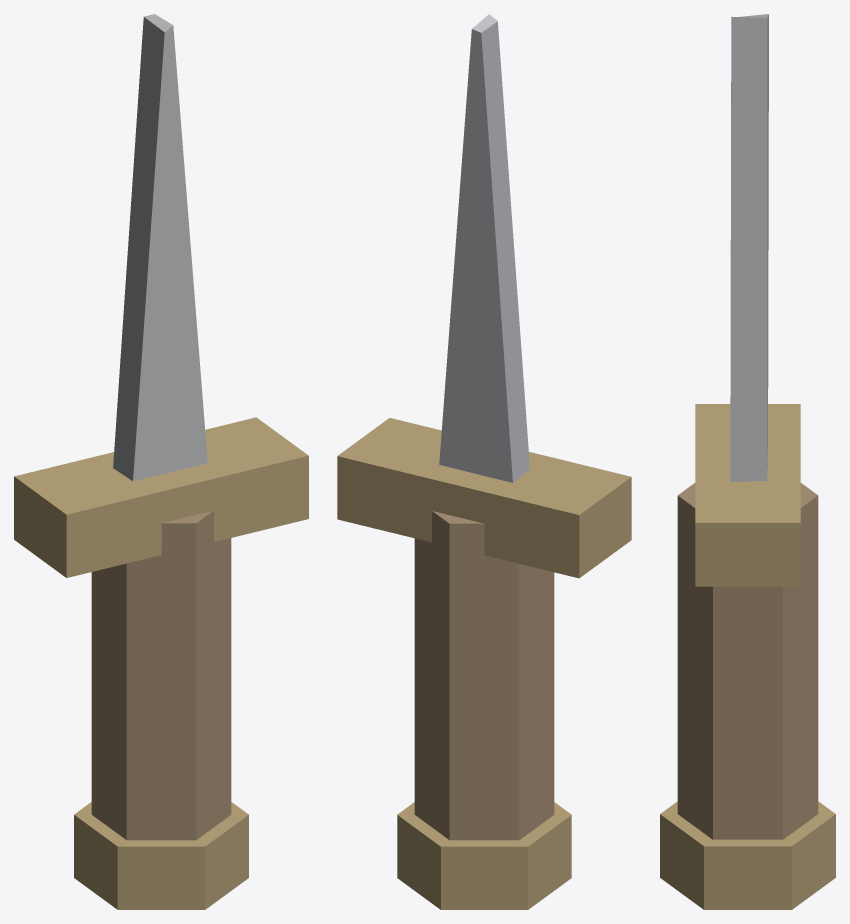
The model's file is shortblade.glb.
3 renders of one model, left to right at view 1: azimuth 30°, elevation 25°; view 2: azimuth 150°, elevation 25°; view 3: azimuth 270°, elevation 25°, orthographic.
Parts seen in each view (by area): view 1: shortblade; view 2: shortblade; view 3: shortblade.
Part boxes in pixels (<box>): shortblade: <box>14,14,308,909</box>; shortblade: <box>337,14,631,909</box>; shortblade: <box>660,14,835,909</box>.
Size of the model in its own units: 0.16 by 0.5415 by 0.1.
